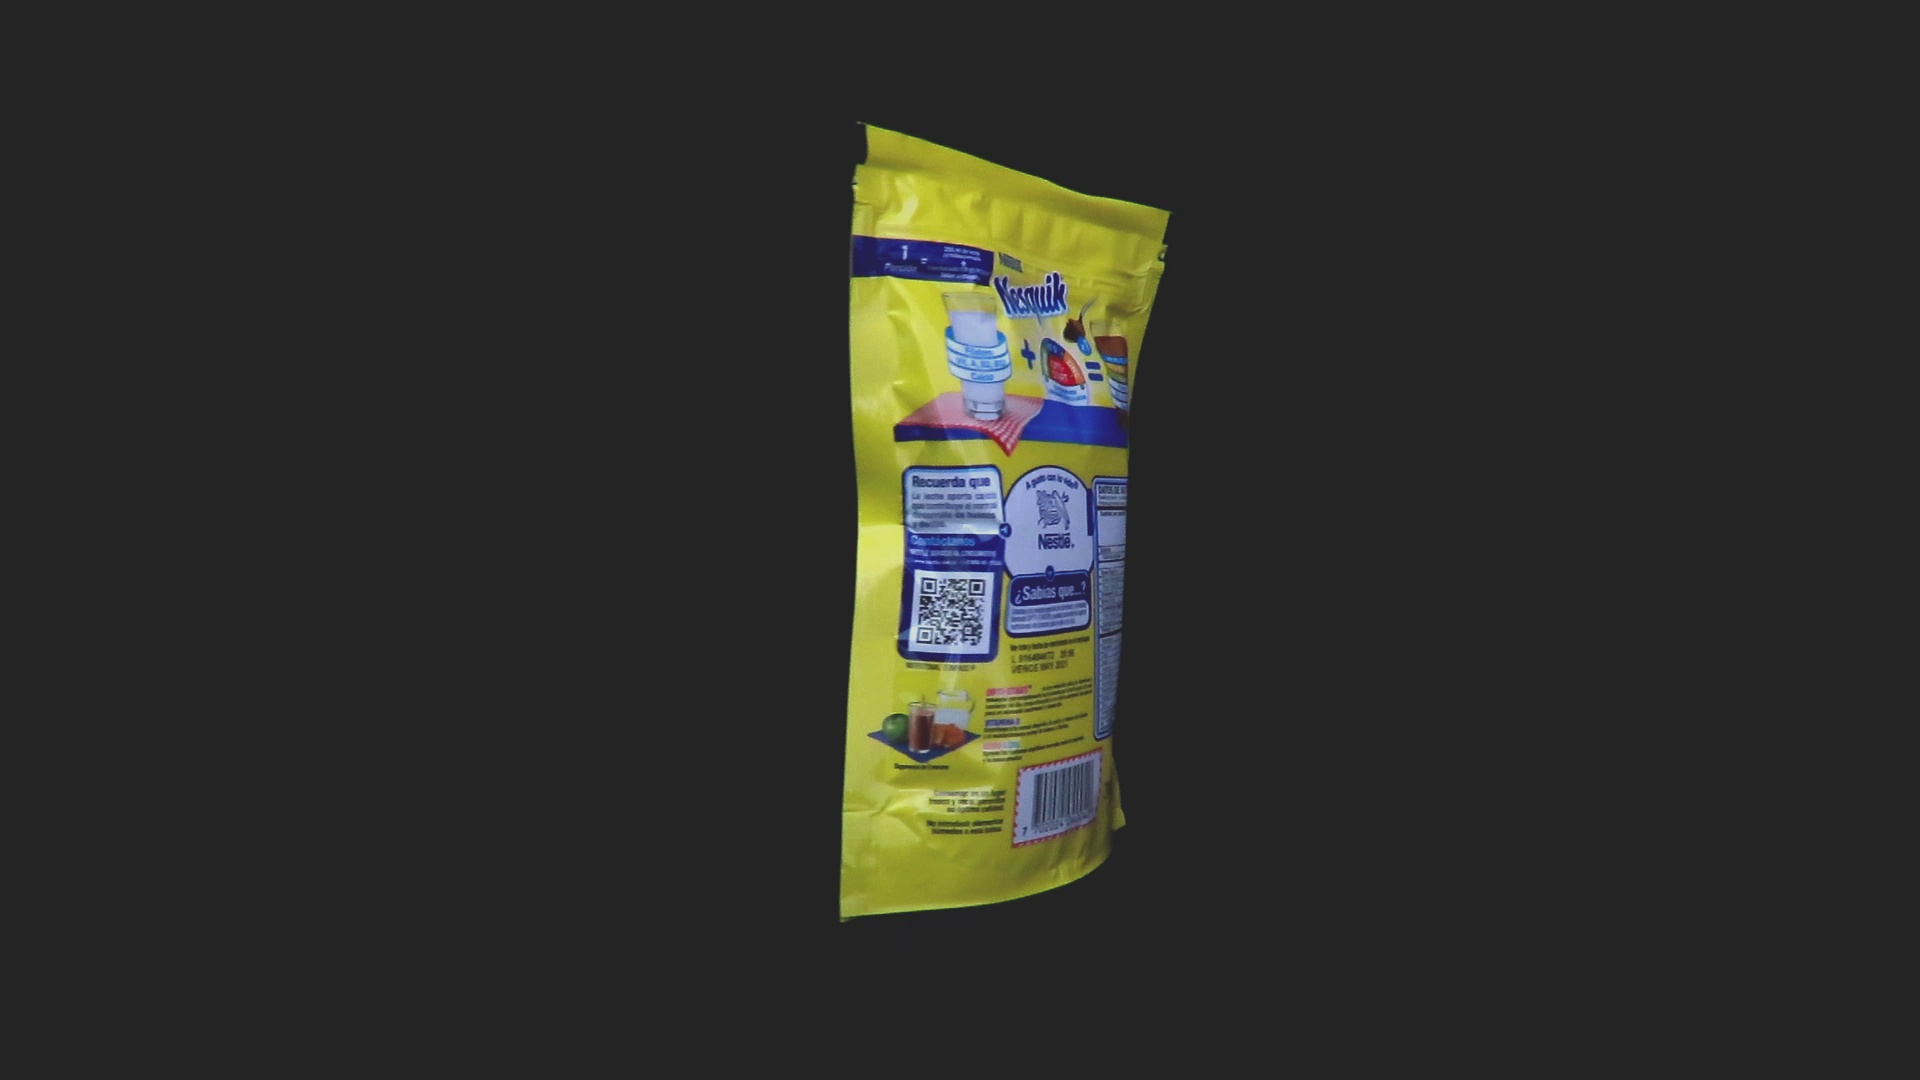COL0170303DYP20000: (833, 116, 1178, 928)
